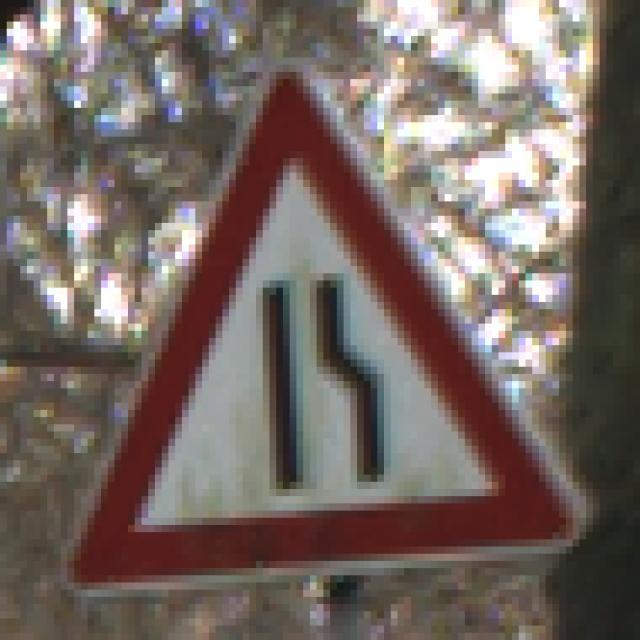narrow road ahead: (57, 56, 602, 603)
